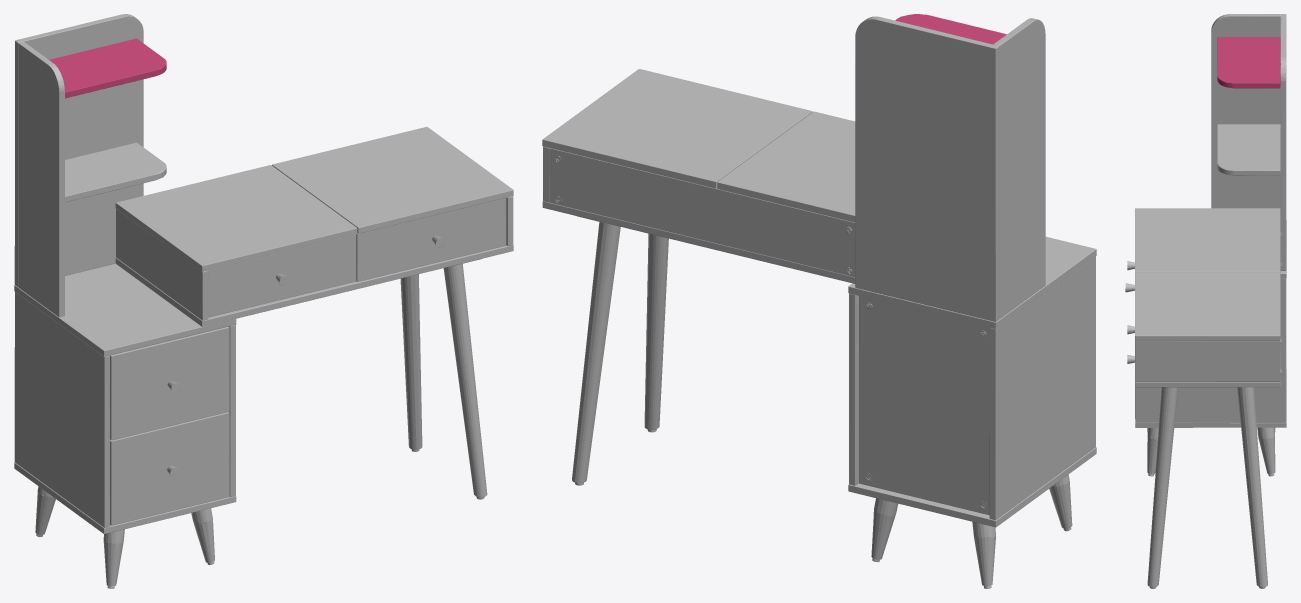
File: interactive_6_1.glb
3 renders of one model, left to right at view 1: azimuth 30°, elevation 25°; view 2: azimuth 150°, elevation 25°; view 3: azimuth 270°, elevation 25°, orthographic. The views are drawn at different scales.
Visible parts, largest first — view 1: pred_target_mesh.ply; view 2: pred_target_mesh.ply; view 3: pred_target_mesh.ply.
Part boxes in pixels (left/top/right/bottom): pred_target_mesh.ply: left=14, top=14, right=513, bottom=588; pred_target_mesh.ply: left=542, top=14, right=1096, bottom=588; pred_target_mesh.ply: left=1125, top=14, right=1286, bottom=588.
Bounding box in the file's own units: 0.6334 × 0.73 × 0.2567.
